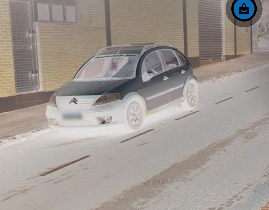car: (41, 39, 202, 135)
